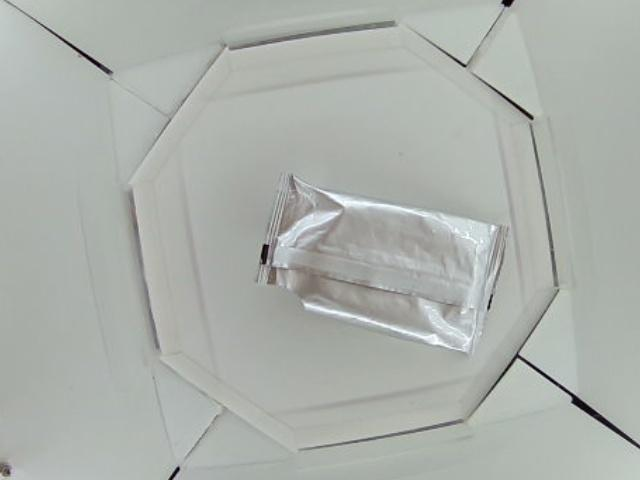Medicine: (252, 172, 506, 356)
